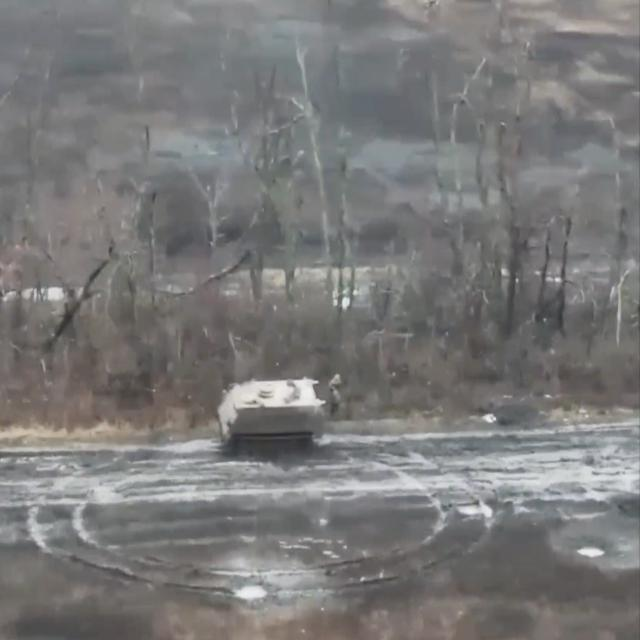infantry: (329, 371, 343, 413)
vehicle: (217, 375, 325, 460)
